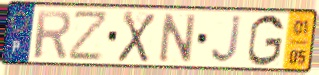G: (246, 13, 286, 68)
J: (209, 13, 244, 66)
N: (158, 11, 198, 65)
R: (32, 8, 73, 60)
X: (115, 10, 158, 65)
Z: (68, 9, 111, 62)
